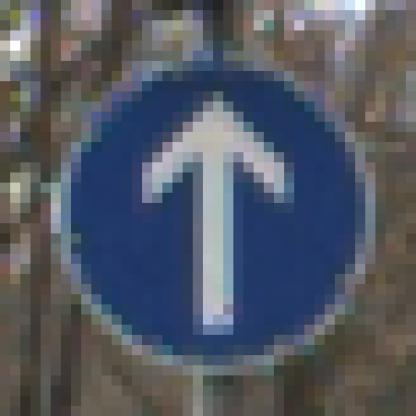straight: (51, 40, 386, 366)
